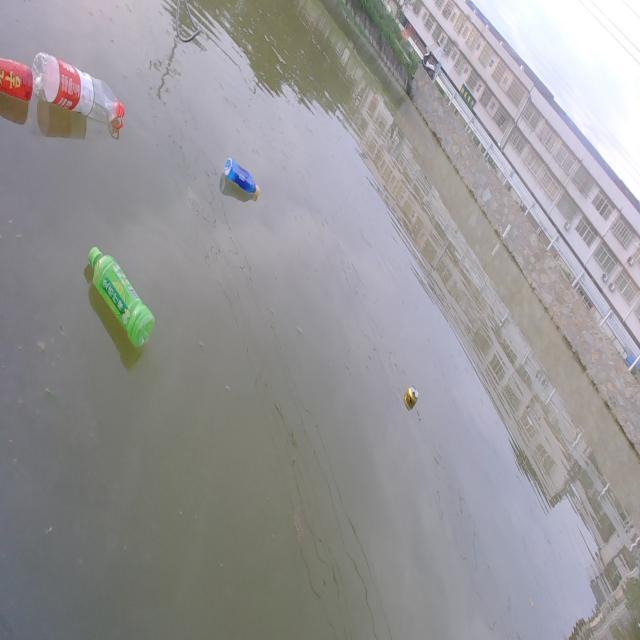bottle: (72, 224, 172, 358), (30, 26, 136, 148), (214, 136, 268, 208)
